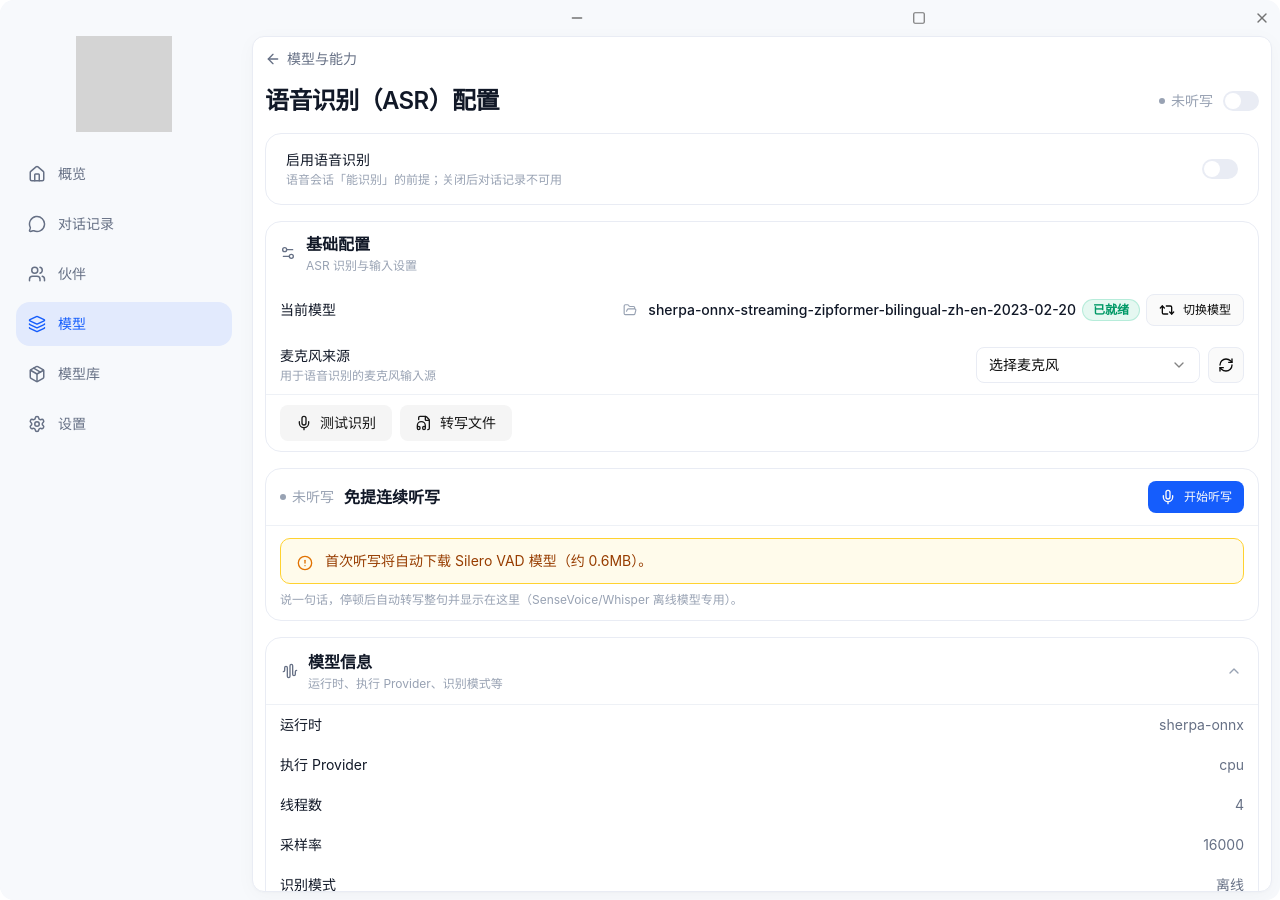
it: AsrPage（语音识别配置） › 转写文件：选择 wav → transcribe_audio → 展示结果
Expected: the heading "语音识别（ASR）配置" is shown, x1=265 y1=85 x2=499 y2=117
Click the button "转写文件": [456, 423] box x1=400 y1=405 x2=512 y2=441
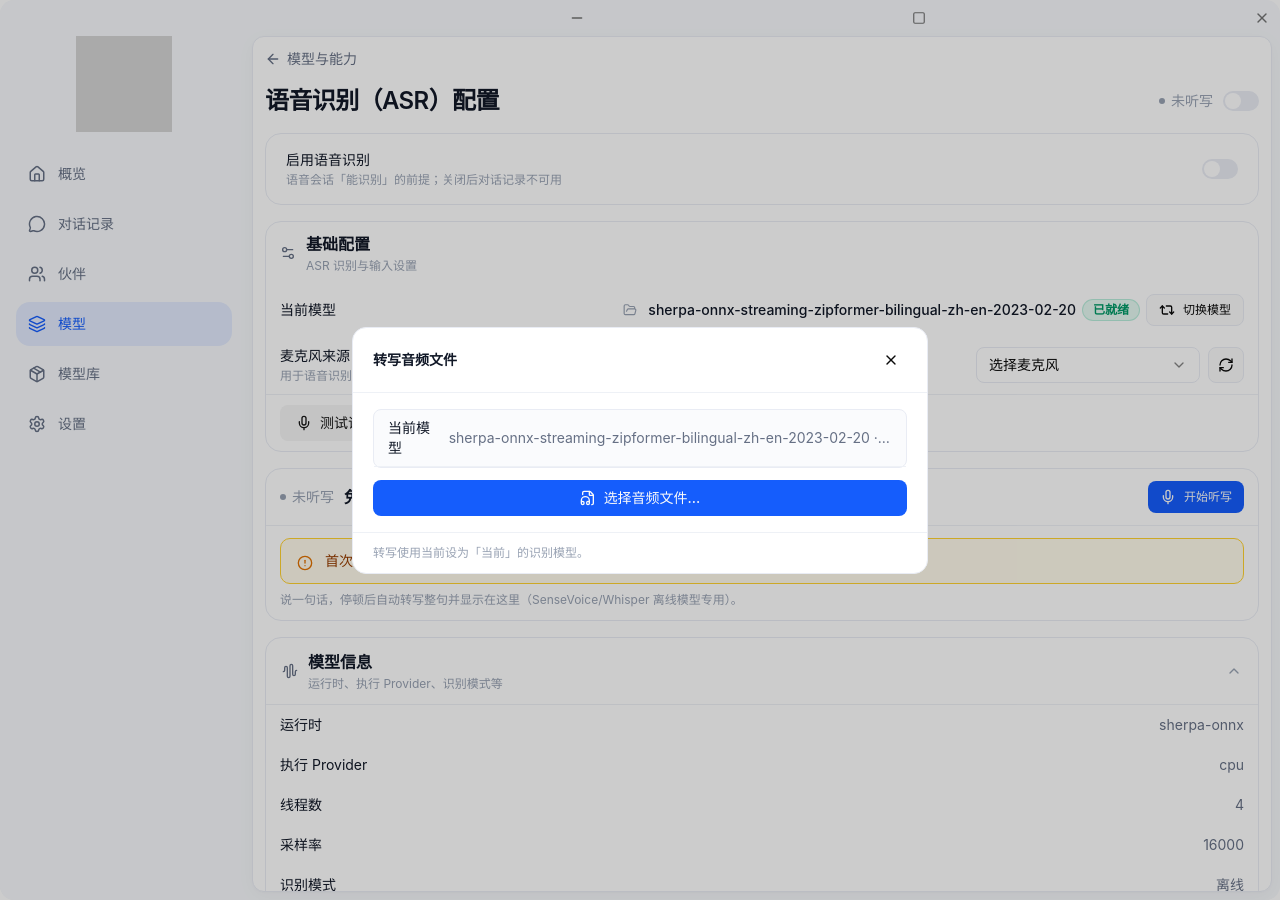
Expected: the heading "转写音频文件" is shown, x1=373 y1=350 x2=457 y2=370
Click the button "选择音频文件…": [640, 498] box x1=373 y1=480 x2=907 y2=516
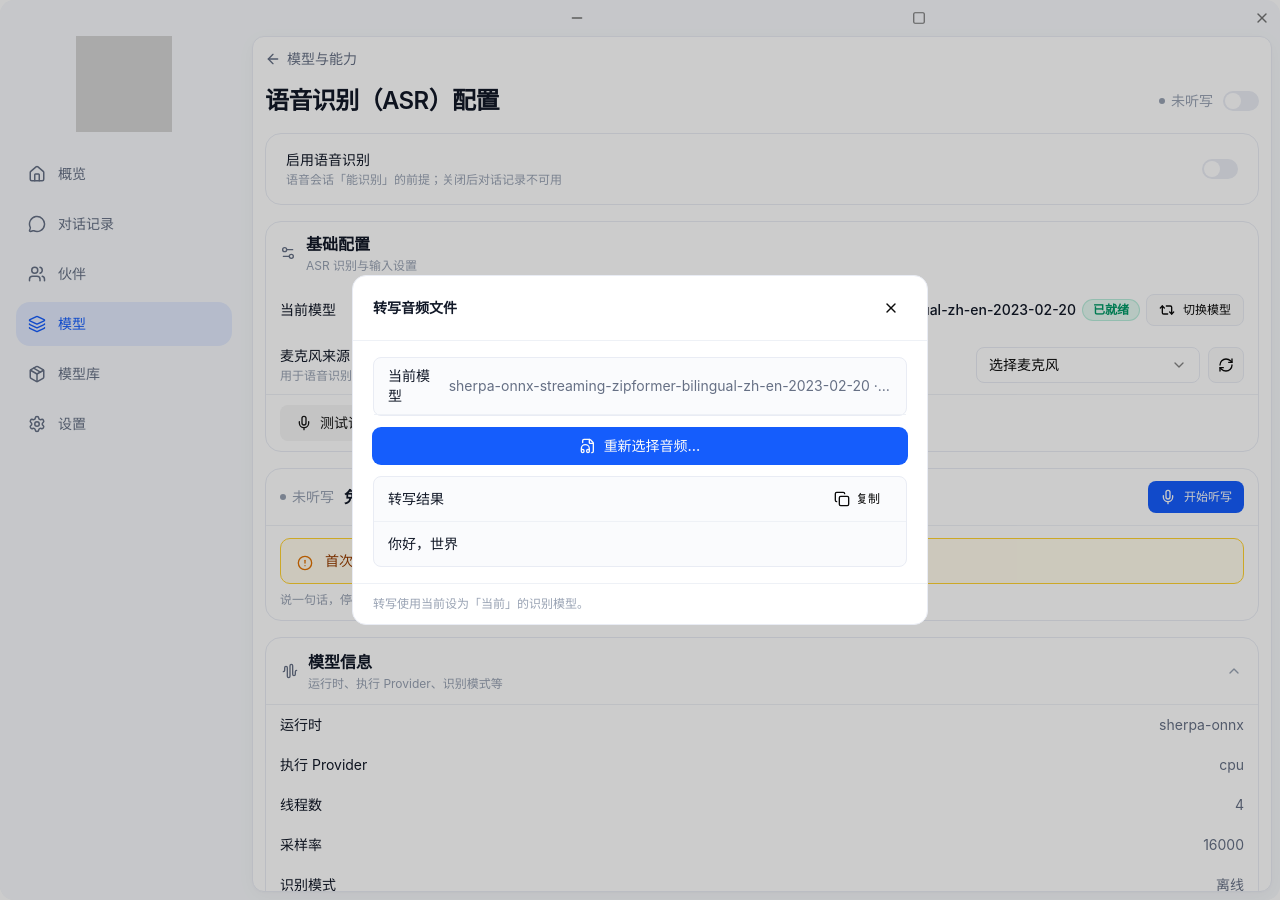
Expected: the text "你好，世界" is shown, x1=388 y1=535 x2=458 y2=552
Expected: the button "复制" is shown, x1=822 y1=485 x2=892 y2=513
